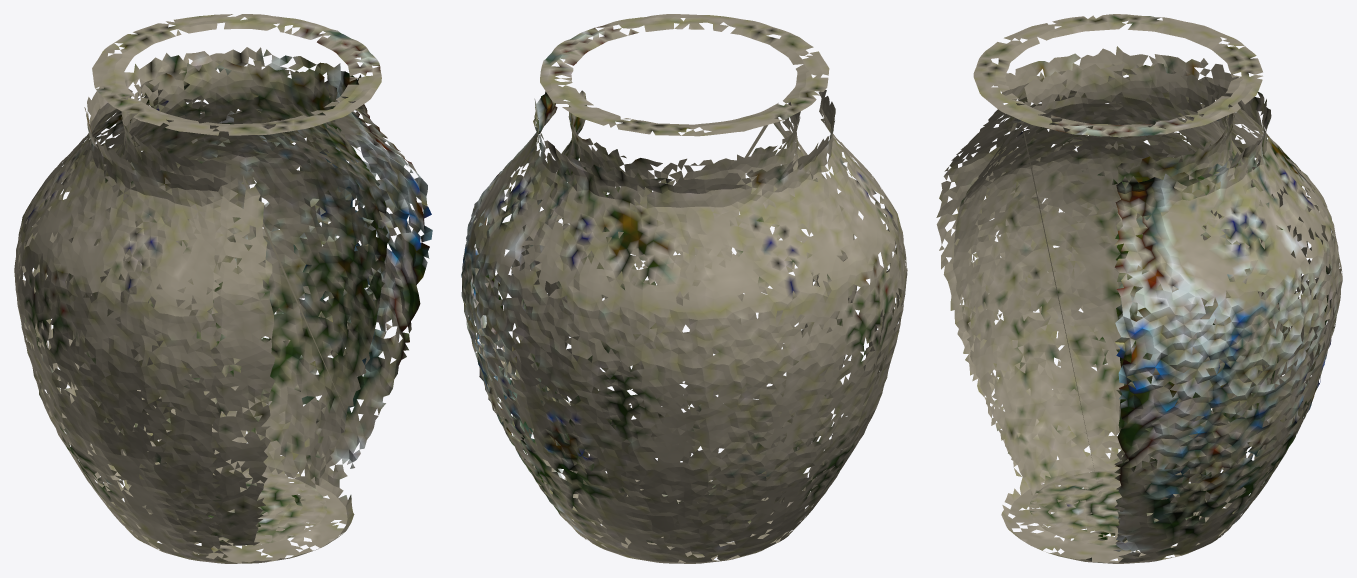
File: vase2_final900.obj
3 views of the same model, side by side, from view 1: azimuth 30°, elevation 25°; view 2: azimuth 150°, elevation 25°; view 3: azimuth 270°, elevation 25° (orthographic).
Bounding box in the file's own units: 1.57 × 1.71 × 1.42.
